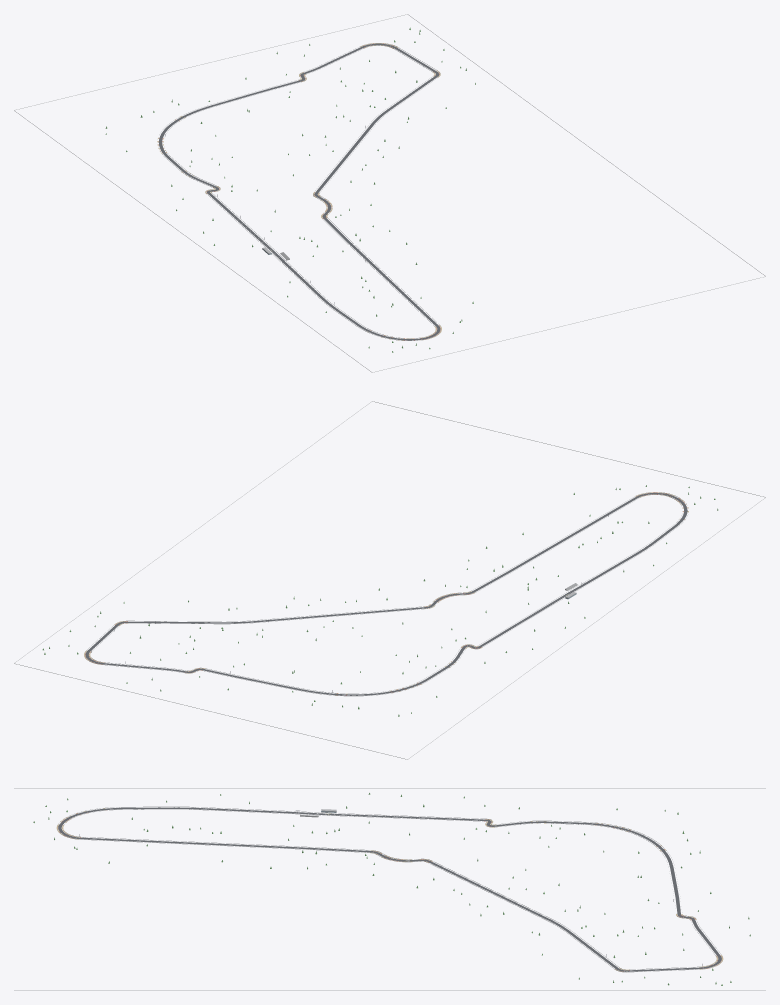
File: monza.glb
The picture shows the model from 3 angles, top to bottom: view 1: azimuth 30°, elevation 25°; view 2: azimuth 150°, elevation 25°; view 3: azimuth 270°, elevation 25°; orthographic projection. The views are drawn at different scales.
Visible parts, largest first — view 1: monza.tarmac, monza.barrier; view 2: monza.barrier, monza.tarmac; view 3: monza.barrier, monza.tarmac, monza.foliage, monza.gravel.
Part boxes in pixels (bbox=[...]): monza.tarmac: bbox=[158, 43, 440, 340]; monza.barrier: bbox=[14, 14, 765, 372]; monza.barrier: bbox=[14, 401, 765, 759]; monza.tarmac: bbox=[85, 493, 687, 695]; monza.barrier: bbox=[14, 788, 765, 990]; monza.tarmac: bbox=[58, 807, 721, 971]; monza.foliage: bbox=[33, 793, 750, 985]; monza.gravel: bbox=[56, 808, 723, 972].
Size of the model in its own units: 1559 by 12.5 by 2456.
